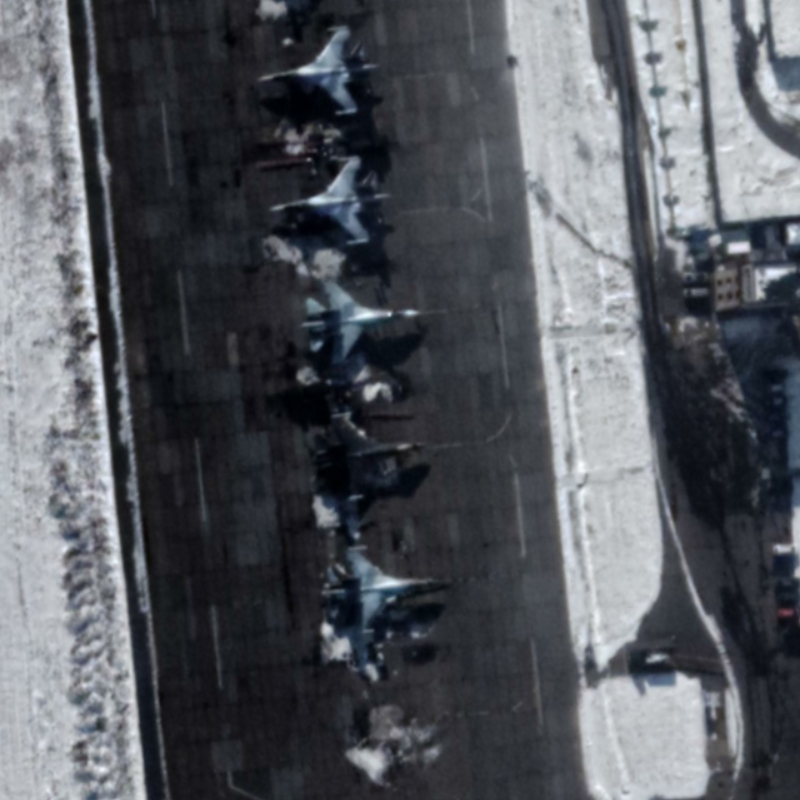A1: (316, 540, 460, 639), (253, 22, 381, 119), (265, 152, 389, 251), (307, 409, 432, 506), (299, 276, 423, 365)
